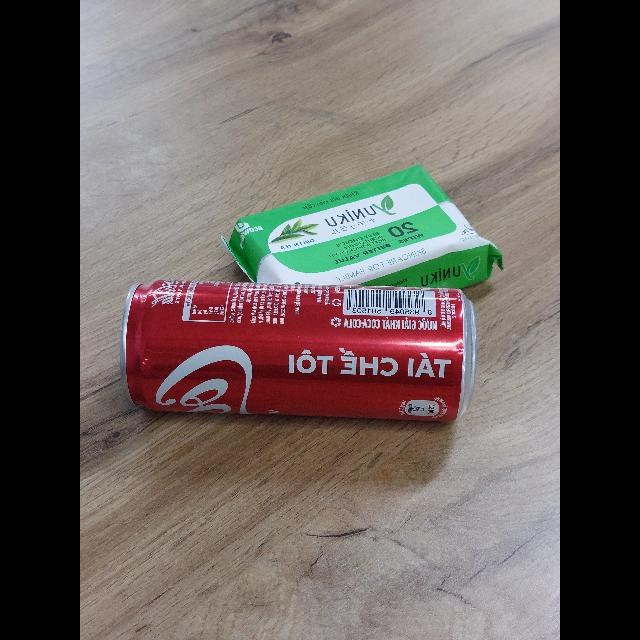coca_cola: (122, 281, 477, 426)
khan_giay: (223, 165, 505, 292)
